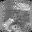people: (4, 18, 14, 30)
